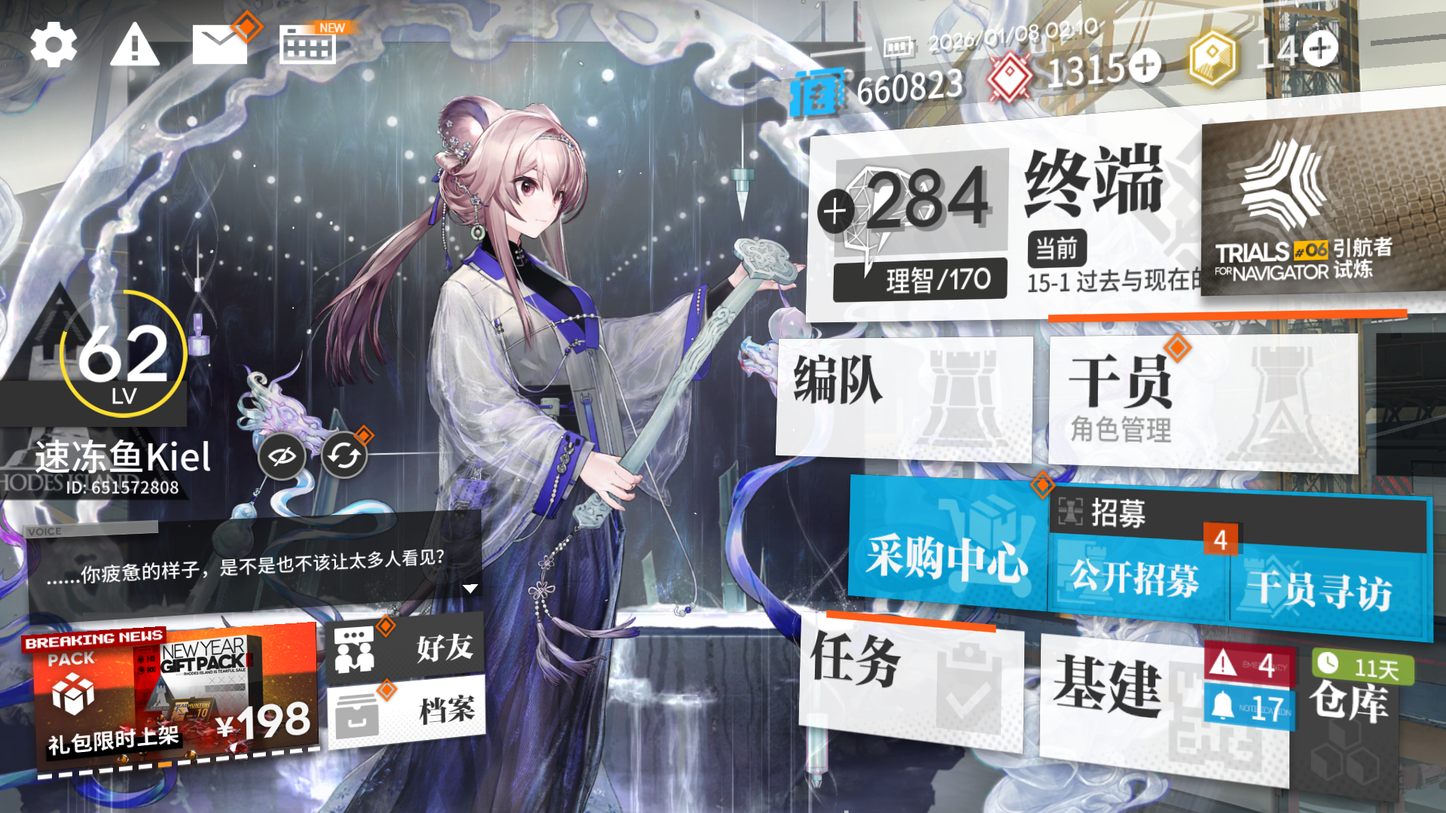home_button: (1011, 110, 1156, 239)
infrastructure_button: (1051, 648, 1285, 769)
